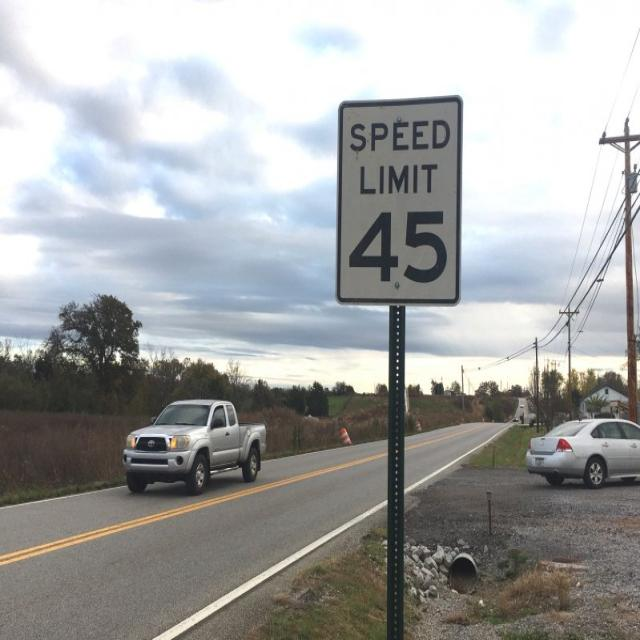speedLimit45: (333, 89, 465, 310)
